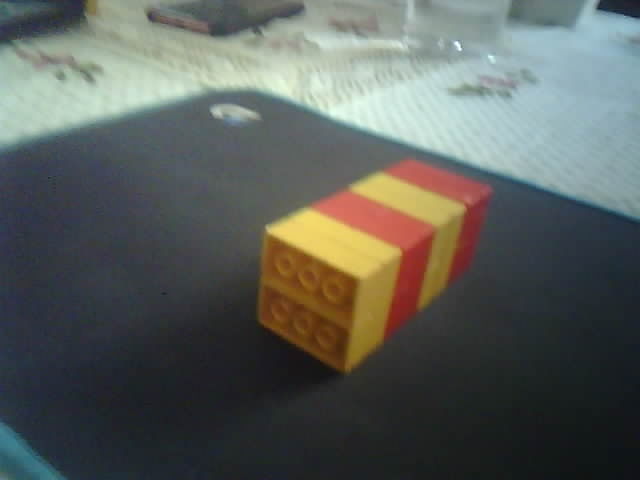lego: (254, 156, 494, 376)
